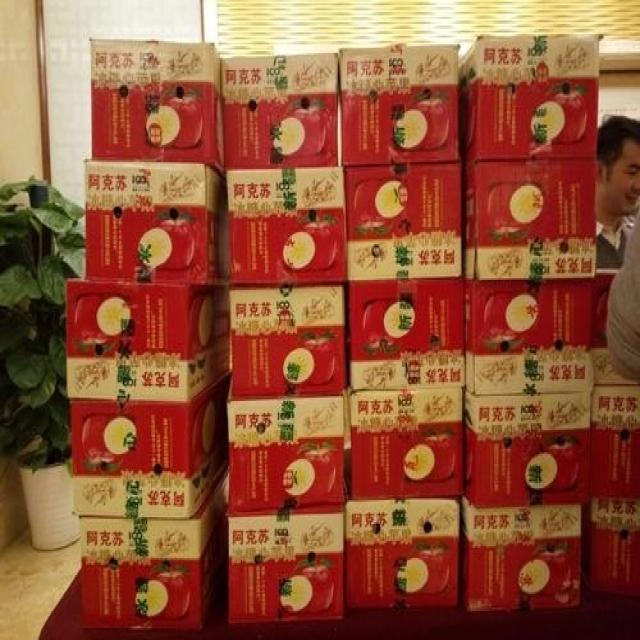box: (78, 468, 228, 633), (72, 374, 229, 519), (65, 276, 230, 403), (88, 38, 225, 179), (460, 34, 603, 167), (84, 159, 227, 287), (462, 160, 598, 282), (463, 280, 596, 396), (462, 391, 591, 509), (338, 46, 461, 164), (227, 166, 348, 285), (227, 396, 346, 514), (229, 283, 347, 401), (461, 498, 582, 613), (223, 53, 338, 171), (348, 276, 466, 391), (228, 510, 344, 626), (344, 166, 462, 280), (347, 389, 465, 500), (346, 500, 460, 614), (590, 384, 640, 500), (596, 270, 637, 386), (591, 500, 640, 596)
